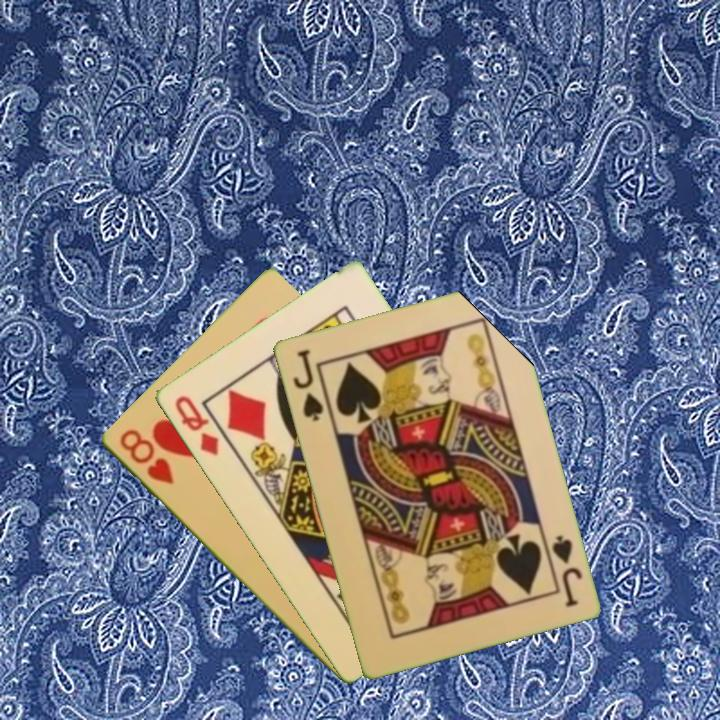8h: (115, 425, 177, 488)
Js: (289, 345, 326, 424), (548, 531, 585, 610)
Qd: (170, 391, 222, 459)
